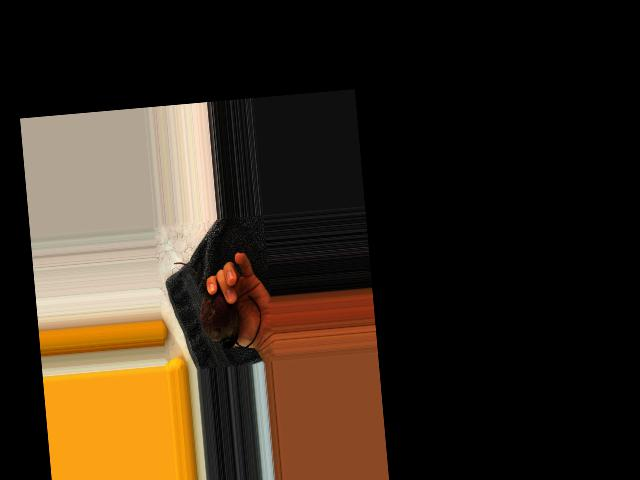beet: (174, 255, 264, 352)
